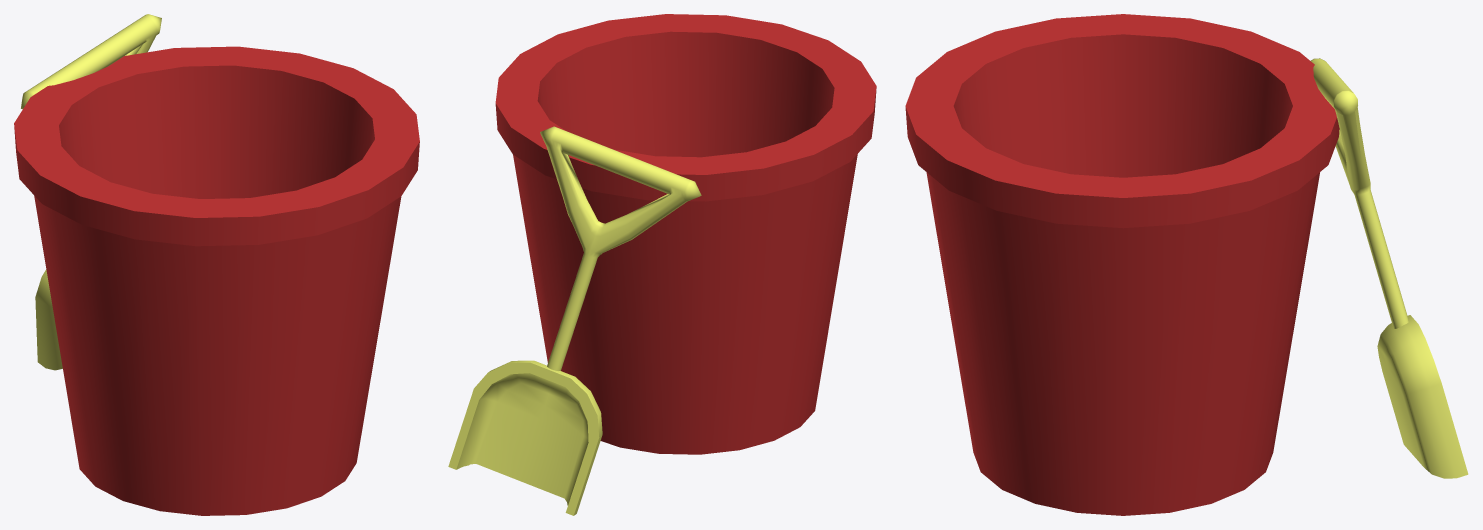
File: Bucket.fbx
3 views of the same model, side by side, from view 1: azimuth 30°, elevation 25°; view 2: azimuth 150°, elevation 25°; view 3: azimuth 270°, elevation 25° (orthographic). The views are drawn at different scales.
Parts seen in each view (by area): view 1: pCylinder15; view 2: pCylinder15; view 3: pCylinder15.
Part boxes in pixels (box(x1,y1,x2,y2)): pCylinder15: box(14, 14, 419, 515); pCylinder15: box(448, 14, 876, 515); pCylinder15: box(905, 14, 1468, 515).
Bounding box in the file's own units: 2.7 × 2.68 × 3.49.
1 material, 1 textured.
